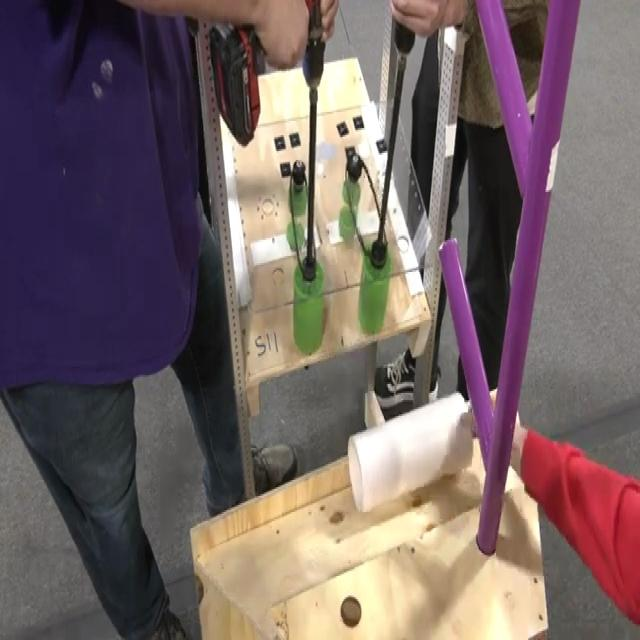Coral: (346, 389, 473, 512)
